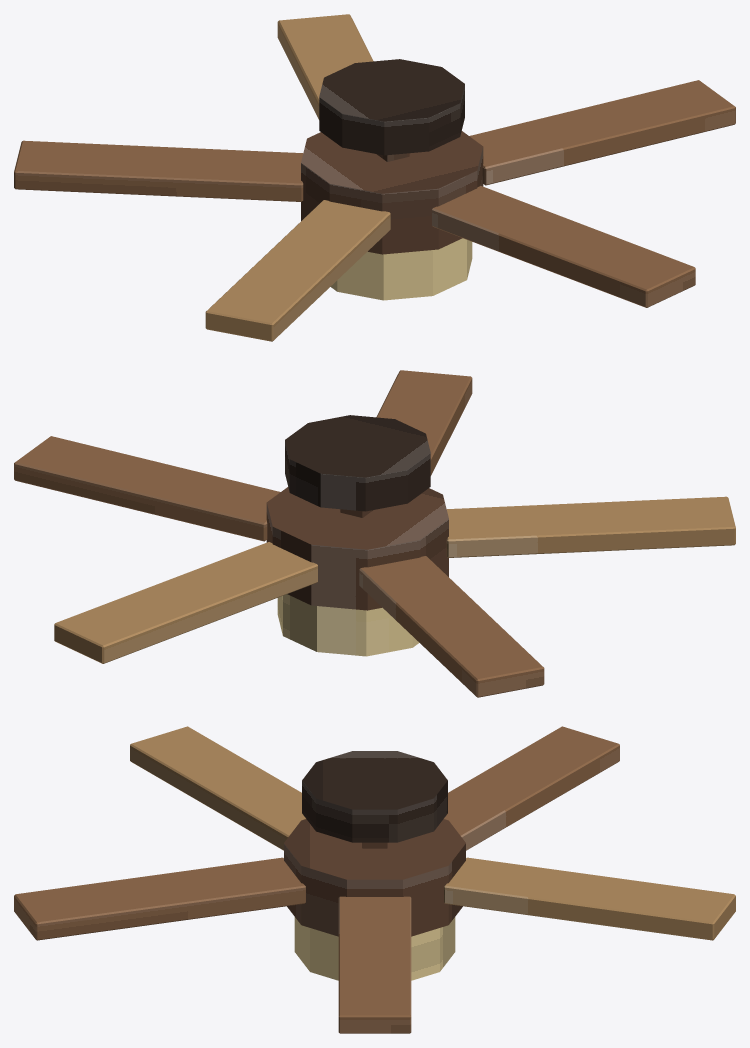
File: ceiling_fan_walnut.glb
3 renders of one model, top to bottom at view 1: azimuth 30°, elevation 25°; view 2: azimuth 150°, elevation 25°; view 3: azimuth 270°, elevation 25°, orthographic. The views are drawn at different scales.
Parts seen in each view (by area): view 1: FanBlade_3, FanBlade_5, FanMotor, FanBlade_1, FanBlade_4, CeilingCanopy, FanLight, FanBlade_2; view 2: FanBlade_4, FanBlade_2, FanMotor, FanBlade_1, FanBlade_3, CeilingCanopy, FanLight, FanBlade_5; view 3: FanBlade_2, FanBlade_5, FanMotor, CeilingCanopy, FanBlade_1, FanBlade_3, FanBlade_4, FanLight.
Part boxes in pixels (x1,y1,x2,y2): FanBlade_3: (14,140,303,201); FanBlade_5: (432,186,695,307); FanMotor: (301,131,483,254); FanBlade_1: (469,80,735,185); FanBlade_4: (205,200,390,341); CeilingCanopy: (319,59,464,155); FanLight: (330,238,472,300); FanBlade_2: (277,14,373,119); FanBlade_4: (446,496,735,557); FanBlade_2: (54,542,317,663); FanMotor: (266,487,448,610); FanBlade_1: (14,436,280,541); FanBlade_3: (359,556,544,697); CeilingCanopy: (285,415,430,511); FanLight: (277,594,419,656); FanBlade_5: (376,370,472,475); FanBlade_2: (444,857,735,940); FanBlade_5: (14,857,305,940); FanMotor: (284,819,465,936); CeilingCanopy: (302,751,447,842); FanBlade_1: (338,896,411,1033); FanBlade_3: (444,726,619,850); FanBlade_4: (130,726,305,850); FanLight: (294,917,455,980).
Size of the model in its own units: 1.88 by 0.52 by 1.98.
1 material, 1 textured.
